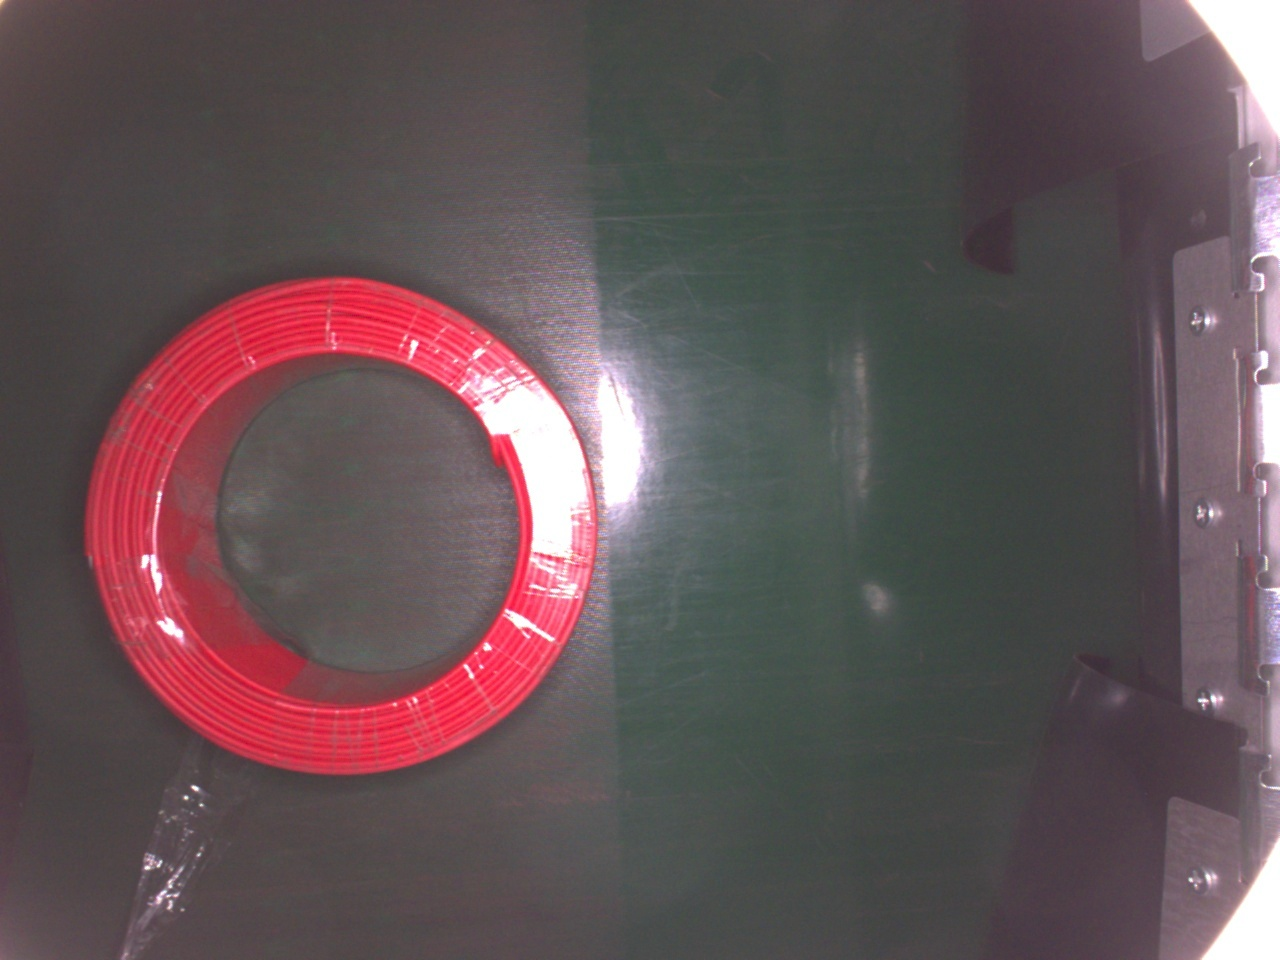red: (84, 273, 600, 778)
